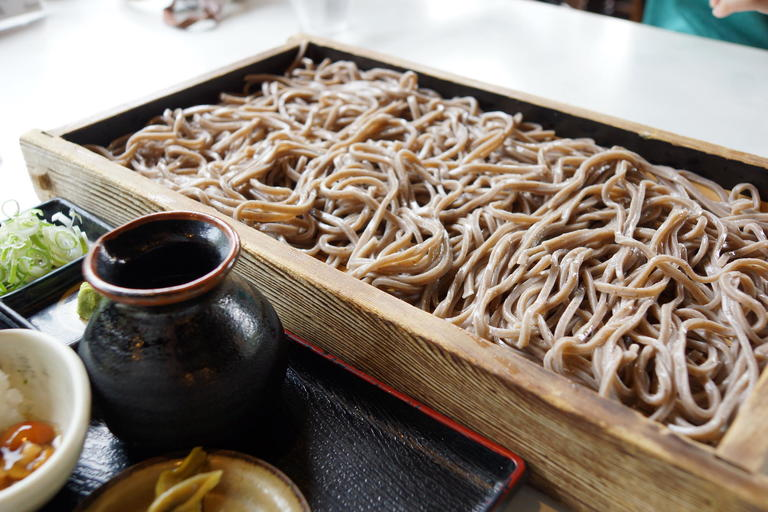Soba: (177, 68, 765, 364)
